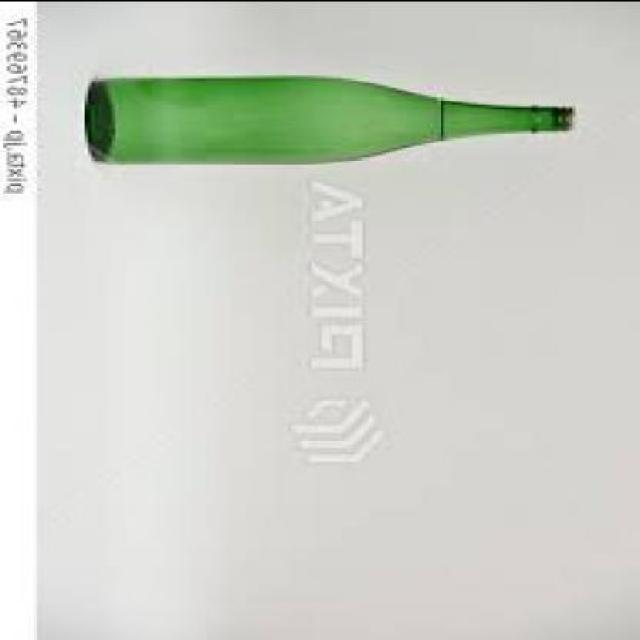glass: (88, 77, 575, 168)
